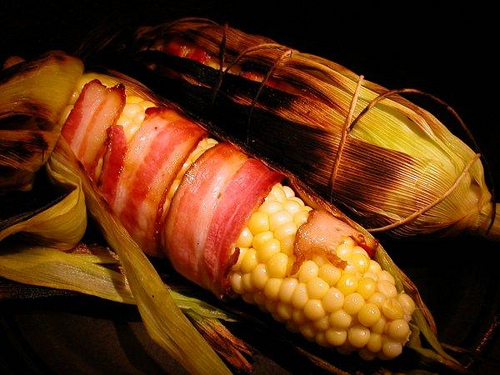corn: (46, 65, 432, 363), (62, 14, 499, 247)
